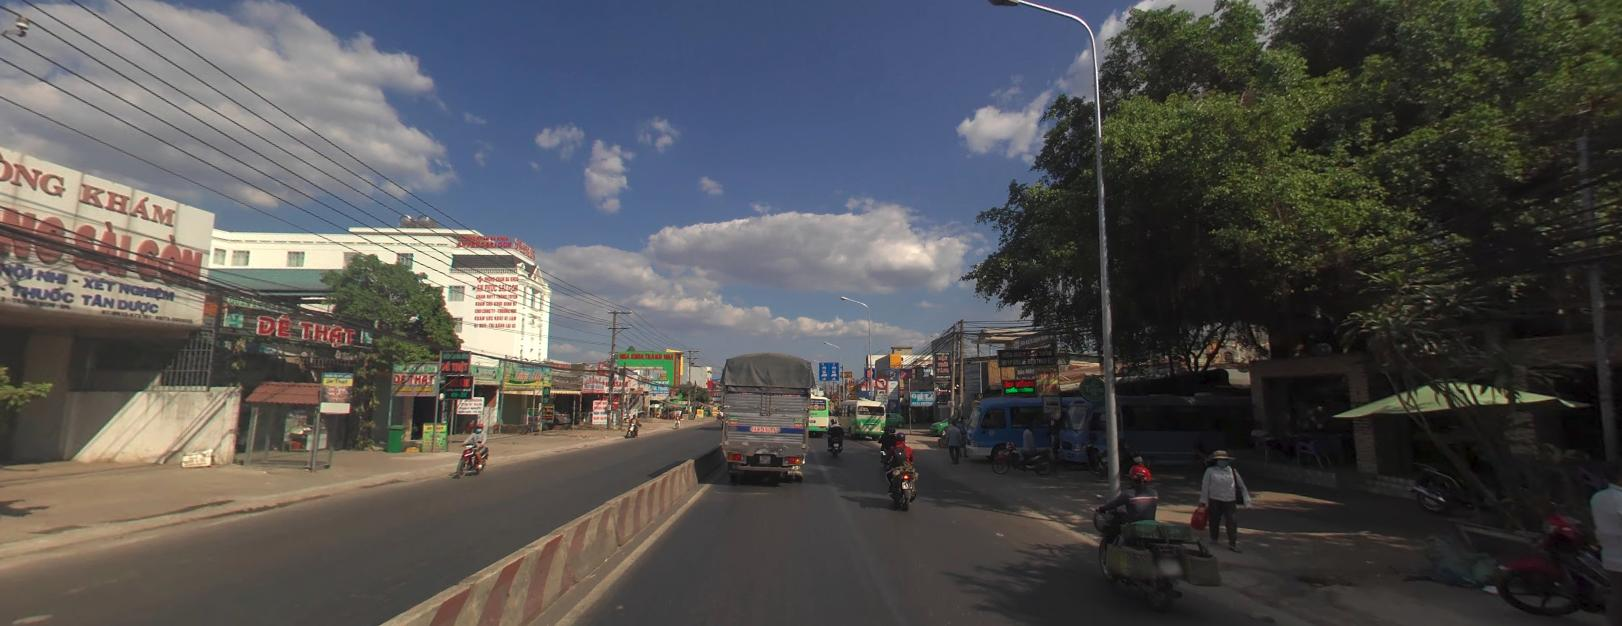Cam re: (874, 374, 887, 387)
